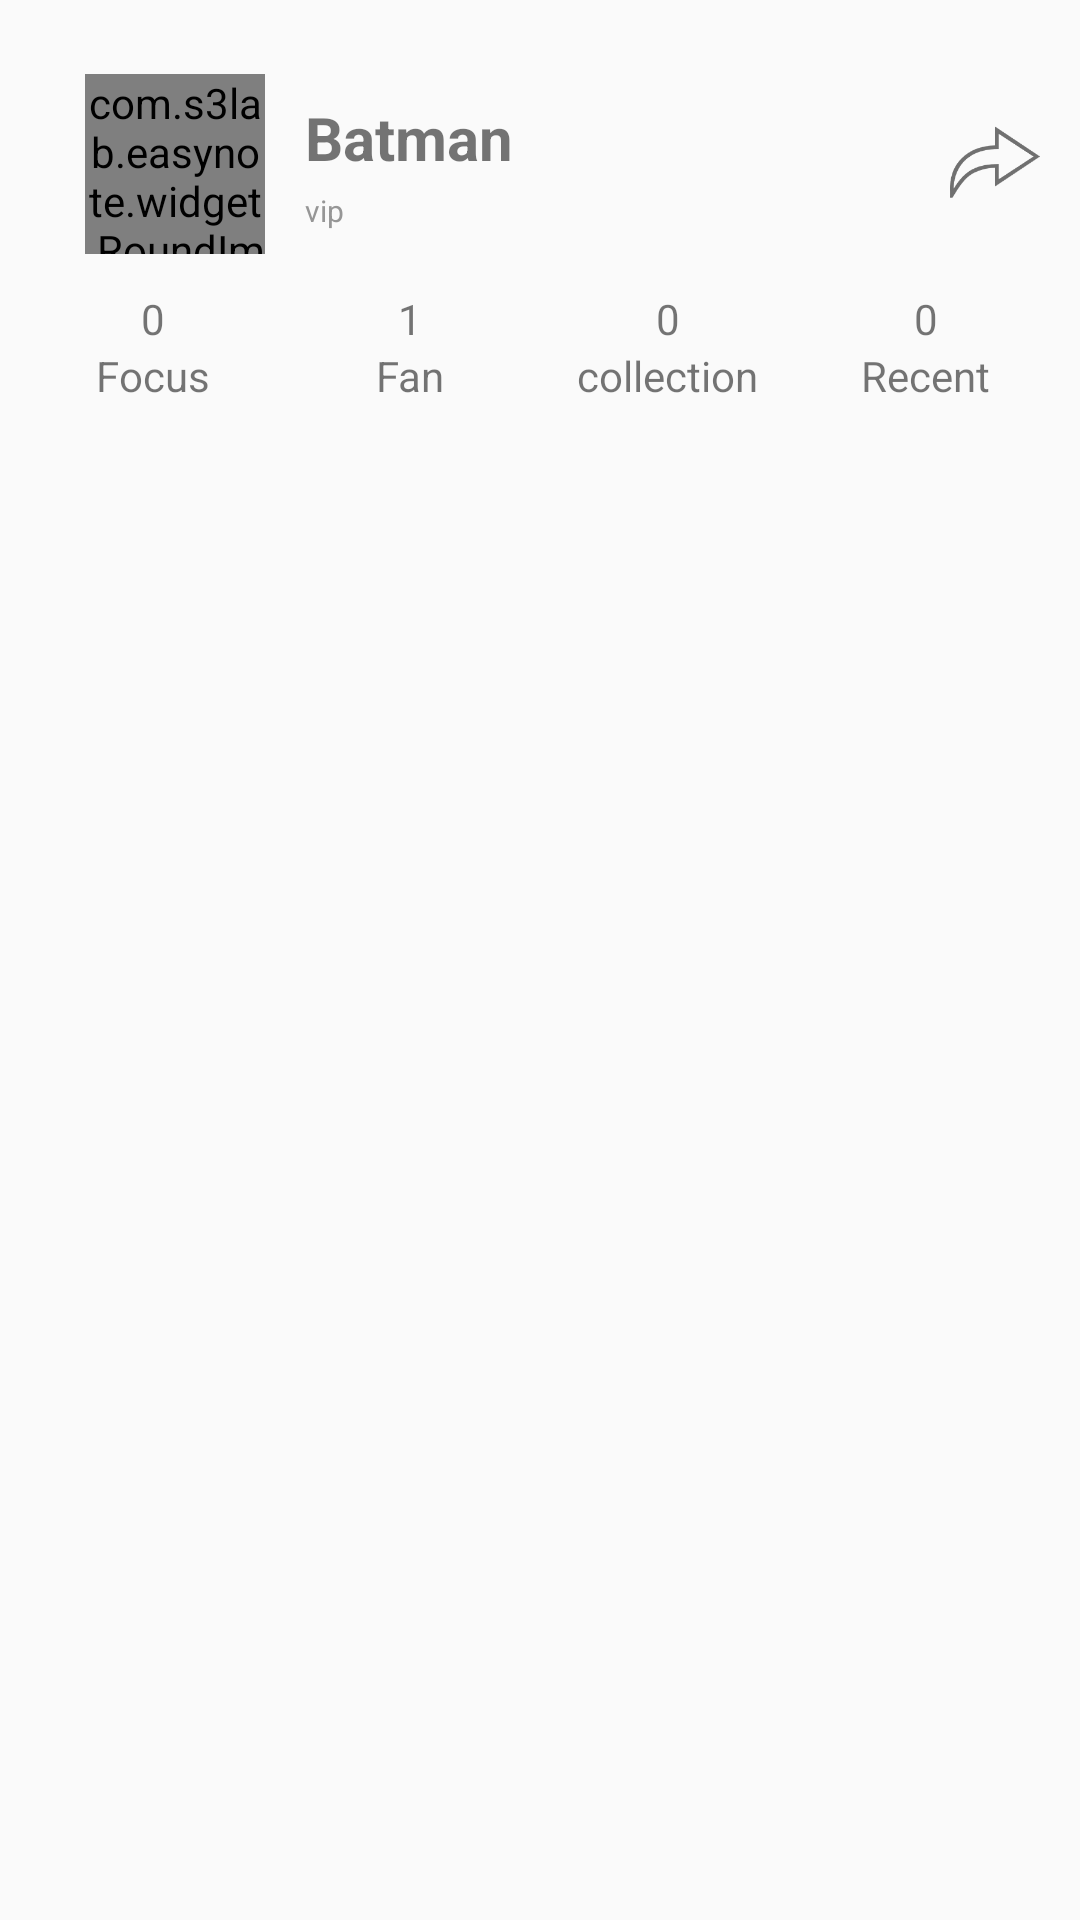

Icons on this 1080 x 1920 Android screen, each with the point to tap as [x,y]:
arrow forward: [995,162]
